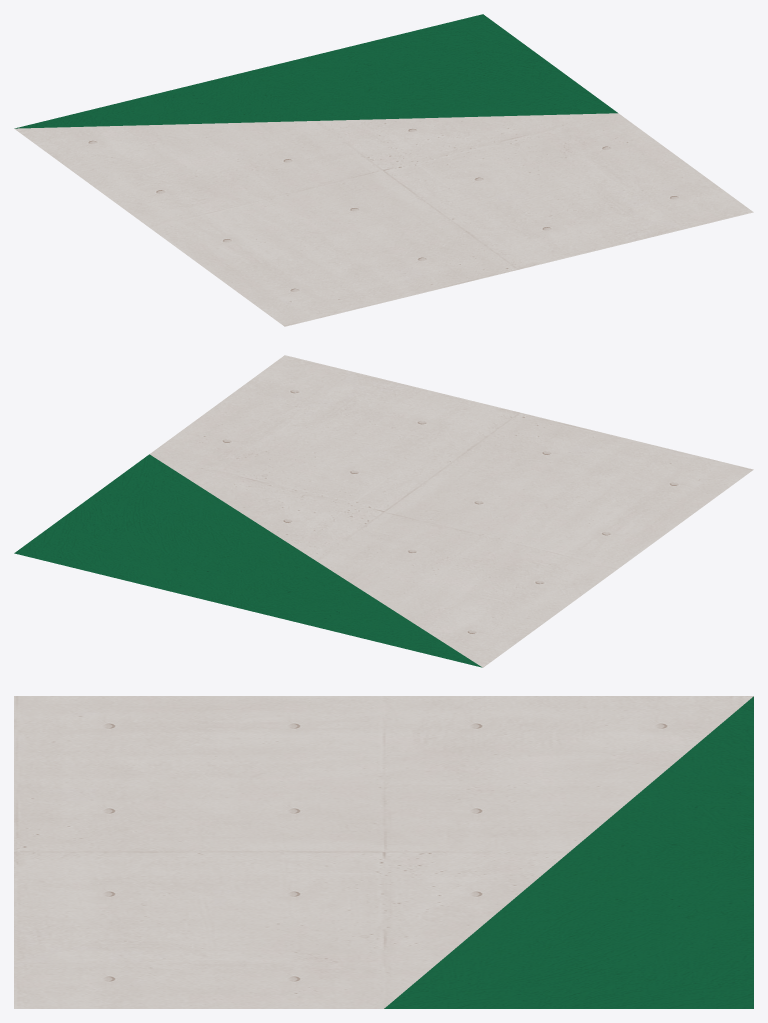
The model's file is VPS_Floor_6.fbx.
The picture shows the model from 3 angles, top to bottom: view 1: azimuth 30°, elevation 25°; view 2: azimuth 150°, elevation 25°; view 3: azimuth 270°, elevation 25°; orthographic projection. The views are drawn at different scales.
Visible parts, largest first — view 1: VSP_FLOOR9; view 2: VSP_FLOOR9; view 3: VSP_FLOOR9.
Part boxes in pixels (bbox=[...]): VSP_FLOOR9: bbox=[14, 14, 753, 326]; VSP_FLOOR9: bbox=[14, 355, 753, 667]; VSP_FLOOR9: bbox=[14, 696, 753, 1008].
Bounding box in the file's own units: 4 × 8.88e-16 × 4.
2 materials, 2 textured.
